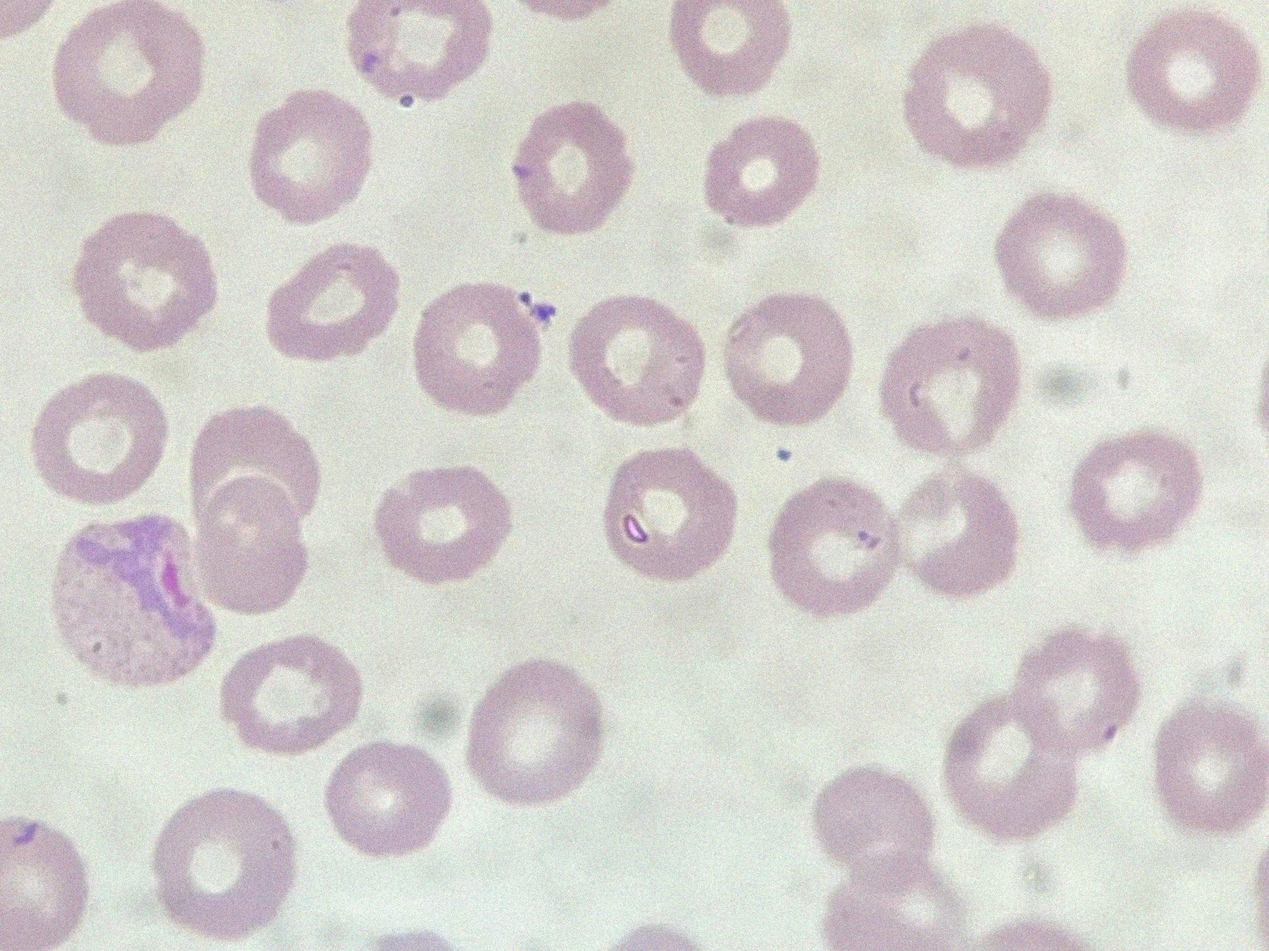Infected: (48, 508, 218, 690)
Uninfected: (154, 788, 300, 941), (902, 27, 1055, 171), (53, 5, 206, 147), (943, 693, 1079, 842), (76, 210, 216, 346), (30, 374, 170, 508), (600, 448, 737, 584), (884, 316, 1020, 451), (468, 665, 603, 800), (770, 476, 898, 616), (725, 294, 853, 426), (223, 638, 362, 759), (889, 470, 1018, 600), (413, 286, 537, 420), (575, 296, 703, 424), (998, 190, 1125, 317), (1071, 428, 1198, 553), (1129, 15, 1260, 135), (513, 102, 632, 234), (375, 468, 510, 584), (1155, 701, 1269, 837), (1013, 630, 1137, 755), (345, 0, 495, 103), (254, 93, 372, 223), (268, 247, 403, 360), (326, 745, 455, 862), (203, 478, 309, 615), (195, 402, 317, 518), (702, 118, 819, 230), (815, 772, 936, 879), (671, 0, 790, 95)
